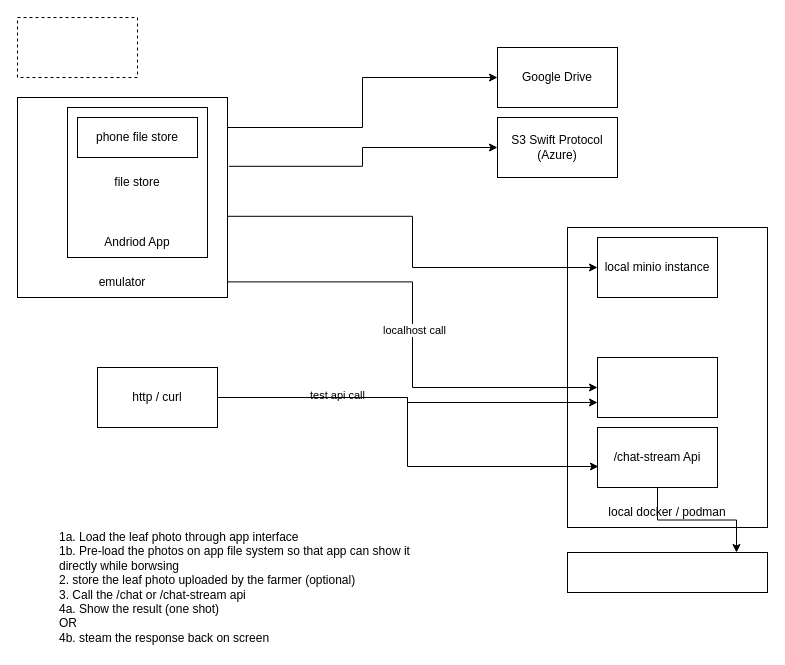
The diagram is 785 pixels wide and 665 high, and some of its shapes have lost their labels. Each missing label, with the box of its shape:
/chat Api: (596, 356, 718, 418)
Andriod App (APK): (16, 16, 138, 78)
ollama (llama 3.1 8b): (566, 552, 768, 592)
